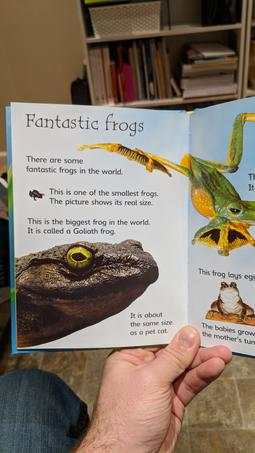text block: (22, 106, 150, 138), (23, 209, 156, 239), (21, 151, 131, 178), (42, 182, 164, 206), (194, 317, 255, 349), (119, 309, 178, 340), (194, 261, 255, 283)
